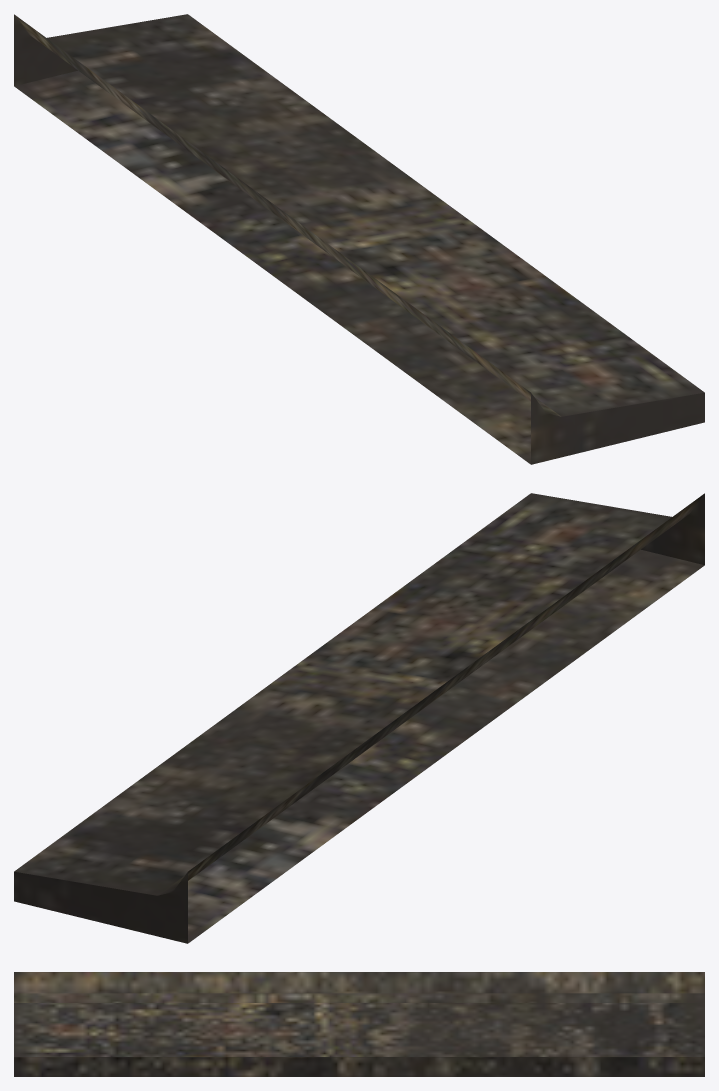
File: WindowTop_L.FBX
3 views of the same model, one above another, from view 1: azimuth 30°, elevation 25°; view 2: azimuth 150°, elevation 25°; view 3: azimuth 270°, elevation 25° (orthographic). The views are drawn at different scales.
Visible parts, largest first — view 1: WindowTop_L; view 2: WindowTop_L; view 3: WindowTop_L.
Part boxes in pixels (left/top/right/bottom): WindowTop_L: left=14, top=14, right=704, bottom=464; WindowTop_L: left=14, top=493, right=704, bottom=943; WindowTop_L: left=14, top=972, right=704, bottom=1076.
Size of the model in its own units: 80.93 by 32.1 by 417.
